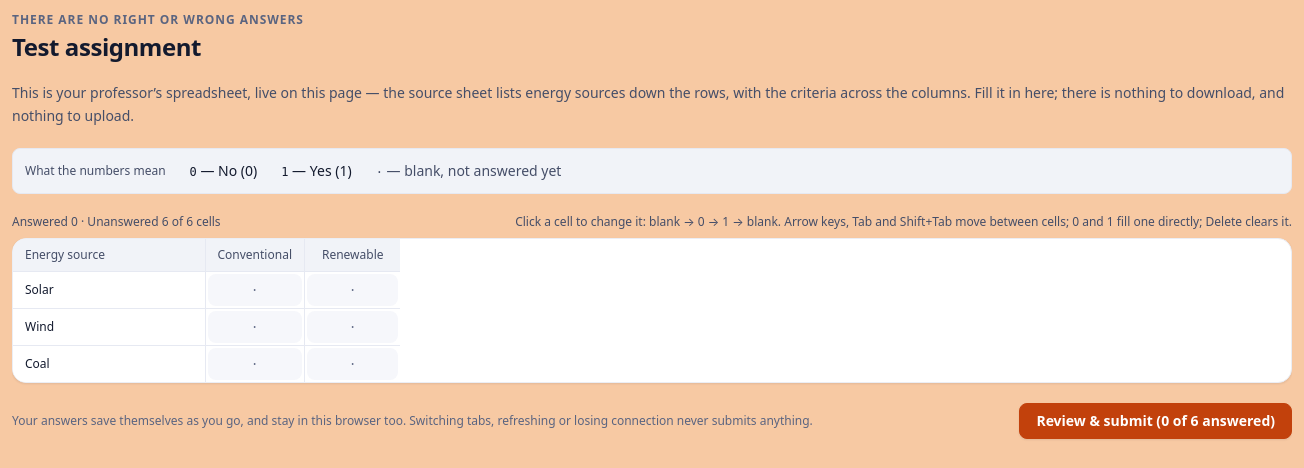
Test: the Review & submit race › a change made while a save is in flight is sent before review opens
Click the button named "Solar — Conventional": [255, 290] box x1=208 y1=274 x2=302 y2=306
Wait 900 ms
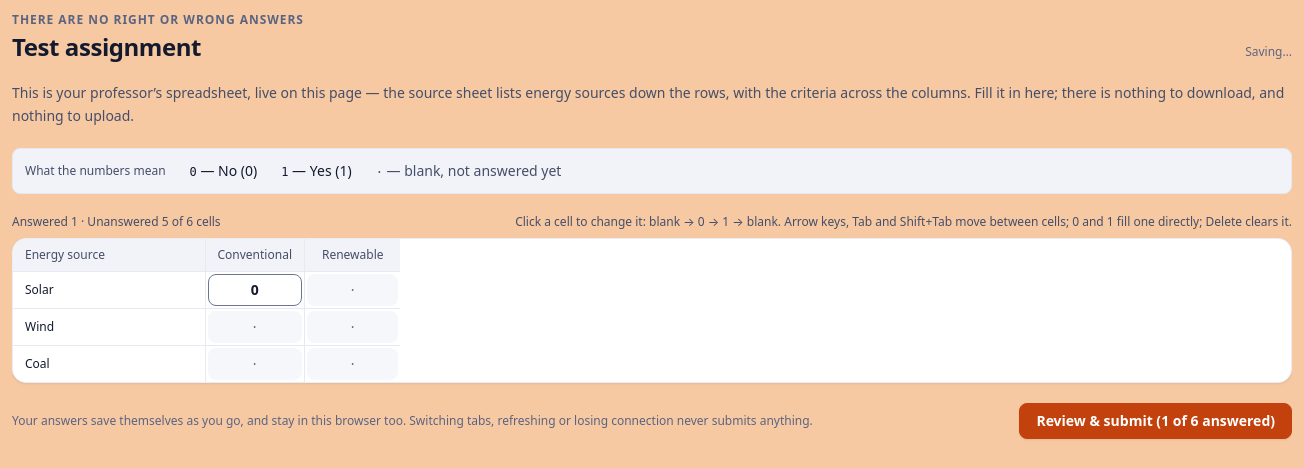
Click the button named "Solar — Renewable": [353, 290] box x1=307 y1=274 x2=398 y2=306
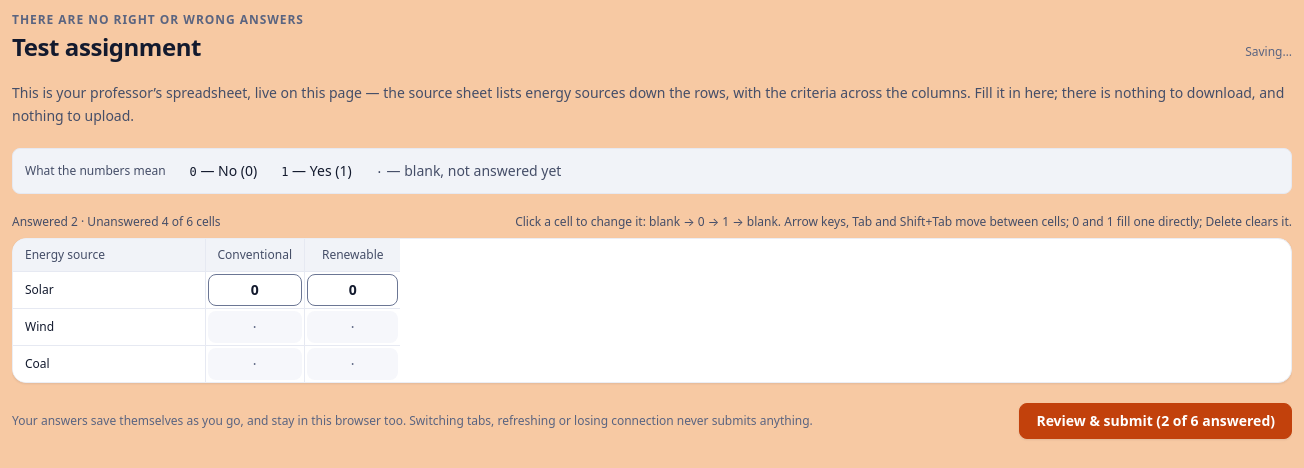
Click the button "Review & submit (2 of 6 answered)": [1156, 420] box x1=1019 y1=402 x2=1292 y2=438
Wait 1000 ms
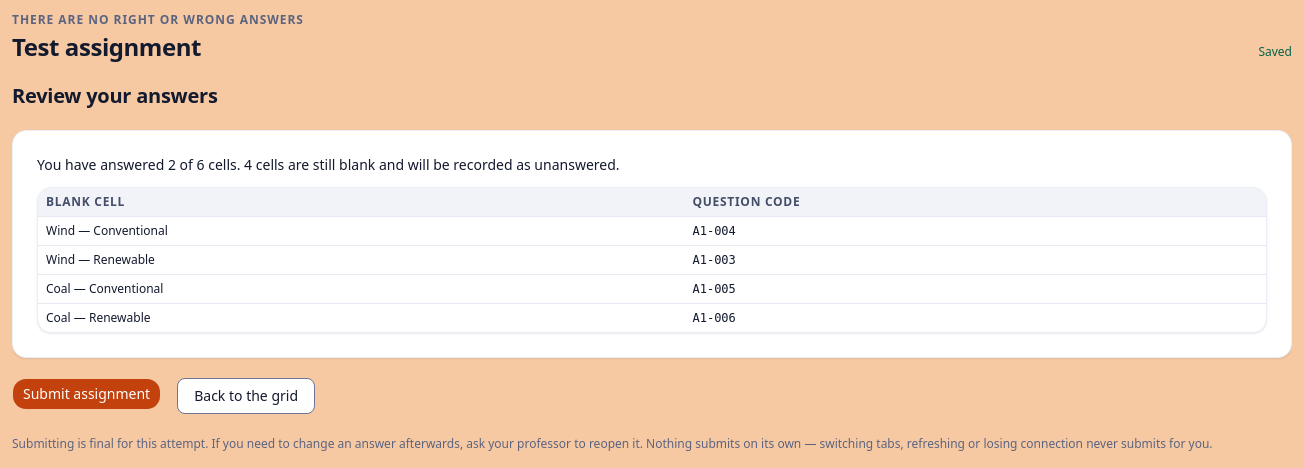
Now the heading "Review your answers" is shown, box x1=12 y1=82 x2=218 y2=109
